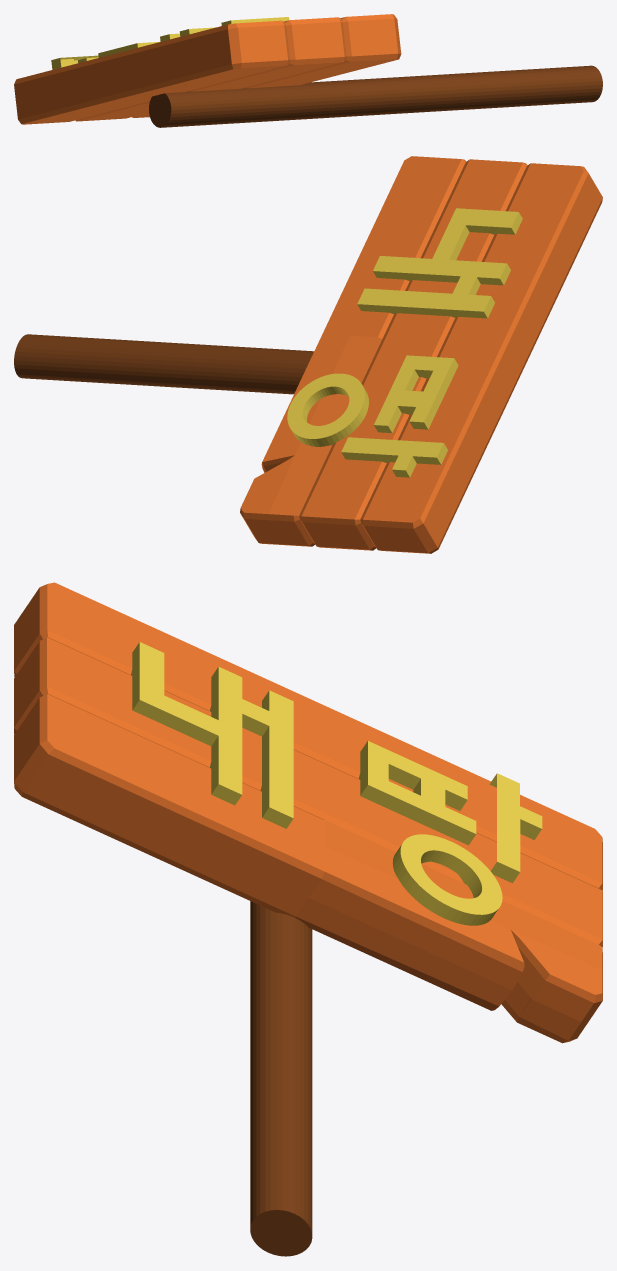
The model's file is wall_2_mole.fbx.
3 renders of one model, top to bottom at view 1: azimuth 30°, elevation 25°; view 2: azimuth 150°, elevation 25°; view 3: azimuth 270°, elevation 25°, orthographic. The views are drawn at different scales.
Parts seen in each view (by area): view 1: Cube.001, 실린더, 큐브; view 2: Cube.001, 큐브, 실린더; view 3: Cube.001, 큐브, 실린더.
Boxes of the visible parts, box(x1,y1,x2,y2) form: Cube.001: box(14, 14, 401, 124); 실린더: box(149, 65, 602, 127); 큐브: box(51, 17, 289, 69); Cube.001: box(240, 156, 602, 553); 큐브: box(287, 208, 522, 477); 실린더: box(14, 334, 313, 394); Cube.001: box(14, 582, 602, 1043); 큐브: box(131, 642, 542, 925); 실린더: box(250, 901, 312, 1256).
Bounding box in the file's own units: 99.6 × 49.43 × 71.06.
